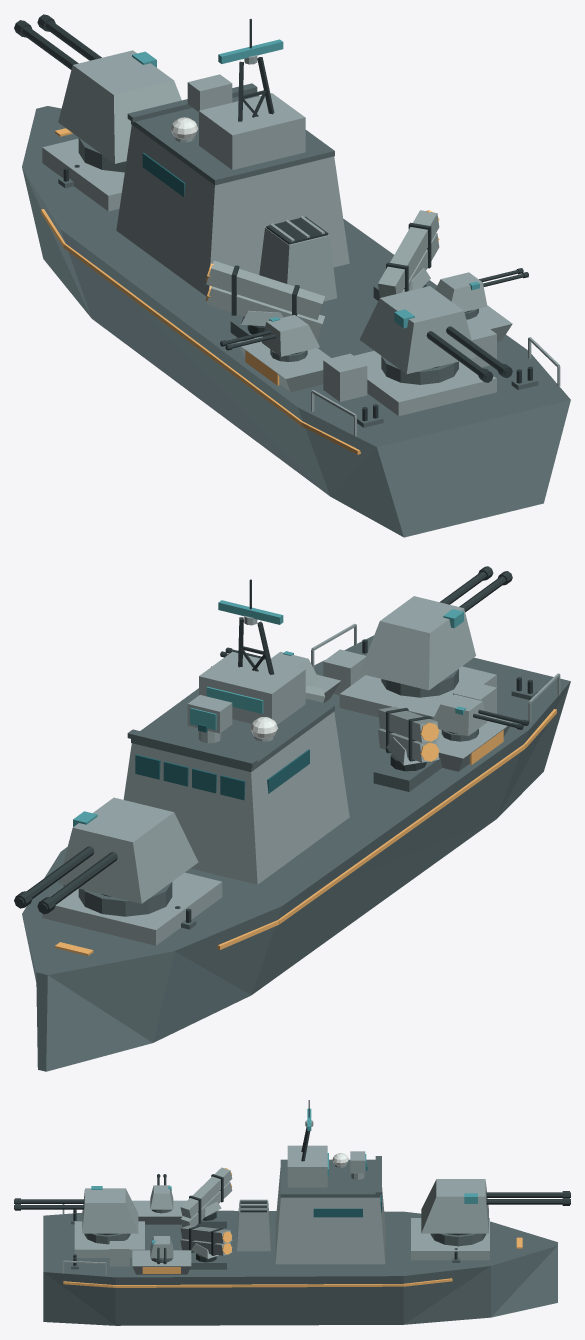
Rendered from ESC_STK_T3.fbx.
3 views of the same model, one above another, from view 1: azimuth 30°, elevation 25°; view 2: azimuth 150°, elevation 25°; view 3: azimuth 270°, elevation 25° (orthographic). The views are drawn at different scales.
Visible parts, largest first — view 1: ContinuousHull.003, Deckhouse.003, PrimaryGunCupola.003, AftGunCupola.003, FireDirectionCabin, Roof.003, ArmouredAftTurretDeck, FunnelEnclosure.003, MissileBankPortTube2.001, ArmouredForeTurretDeck, MissileBankStarboardTube2.001, BatteryDeckSponson (+15 smaller); view 2: ContinuousHull.003, Deckhouse.003, PrimaryGunCupola.003, AftGunCupola.003, Roof.003, ArmouredForeTurretDeck, FireDirectionCabin, ArmouredAftTurretDeck, PrimaryGunFoundation.003, RoleHullStripe-1_1.003, BatteryDeckSponson, BroadsideGun_-1Cupola (+14 smaller); view 3: ContinuousHull.003, Deckhouse.003, PrimaryGunCupola.003, AftGunCupola.003, Roof.003, ArmouredForeTurretDeck, FireDirectionCabin, FunnelEnclosure.003, ArmouredAftTurretDeck, RoleHullStripe1_1.003, MissileBankPortTube2.001, BatteryDeckSponson.001 (+17 smaller).
Boxes of the visible parts, x1,y1,x2,y2 form: ContinuousHull.003: (22, 106, 570, 537); Deckhouse.003: (116, 125, 349, 296); PrimaryGunCupola.003: (58, 50, 181, 163); AftGunCupola.003: (359, 286, 475, 374); FireDirectionCabin: (199, 93, 305, 169); Roof.003: (131, 95, 334, 185); ArmouredAftTurretDeck: (354, 350, 496, 415); FunnelEnclosure.003: (259, 227, 337, 301); MissileBankPortTube2.001: (206, 260, 324, 319); ArmouredForeTurretDeck: (42, 138, 124, 211); MissileBankStarboardTube2.001: (378, 210, 439, 297); BatteryDeckSponson: (236, 336, 330, 392); ContinuousHull.003: (22, 635, 570, 1071); Deckhouse.003: (123, 711, 349, 884); PrimaryGunCupola.003: (58, 797, 198, 903); AftGunCupola.003: (359, 596, 475, 690); Roof.003: (131, 688, 334, 771); ArmouredForeTurretDeck: (42, 872, 222, 945); FireDirectionCabin: (199, 651, 305, 724); ArmouredAftTurretDeck: (339, 666, 496, 719); PrimaryGunFoundation.003: (78, 882, 172, 916); RoleHullStripe-1_1.003: (278, 744, 525, 924); BatteryDeckSponson: (435, 716, 512, 771); BroadsideGun_-1Cupola: (433, 694, 487, 736); ContinuousHull.003: (43, 1210, 557, 1325); Deckhouse.003: (275, 1168, 385, 1264); PrimaryGunCupola.003: (421, 1179, 488, 1233); AftGunCupola.003: (82, 1188, 138, 1233); Roof.003: (280, 1159, 380, 1197); ArmouredForeTurretDeck: (411, 1218, 489, 1260); FireDirectionCabin: (287, 1145, 327, 1187); FunnelEnclosure.003: (237, 1200, 270, 1251); ArmouredAftTurretDeck: (74, 1221, 144, 1257); RoleHullStripe1_1.003: (115, 1284, 403, 1287); MissileBankPortTube2.001: (180, 1167, 232, 1218); BatteryDeckSponson.001: (132, 1250, 191, 1274).
Bounding box in the file's own units: 363 × 389 × 974.
